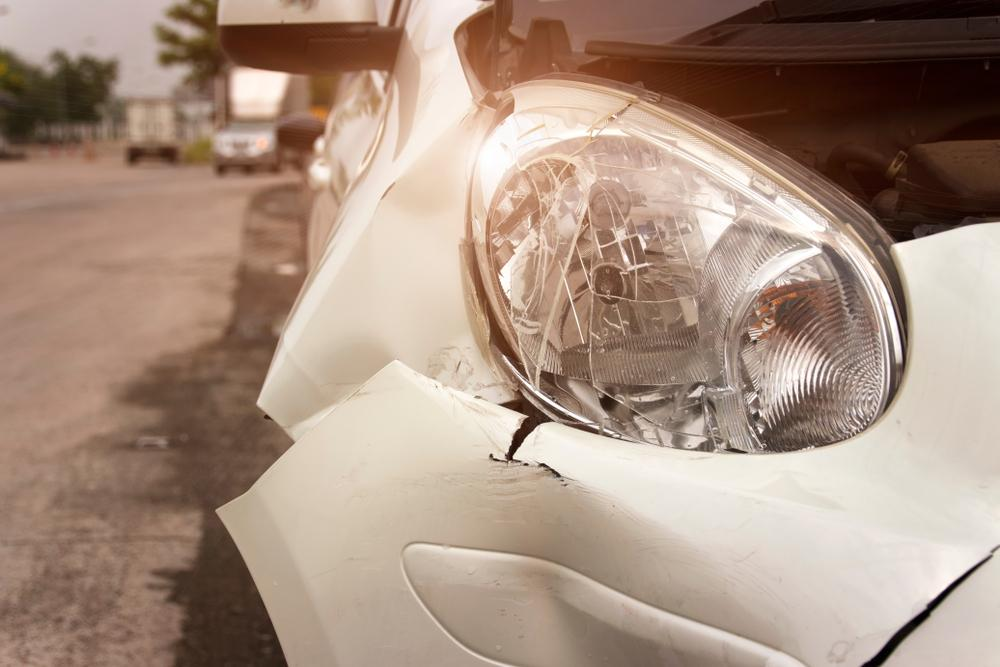crack: (856, 541, 1000, 667), (502, 413, 550, 464)
dent: (255, 108, 524, 440), (469, 476, 655, 652)
lamp broken: (464, 75, 898, 450)
